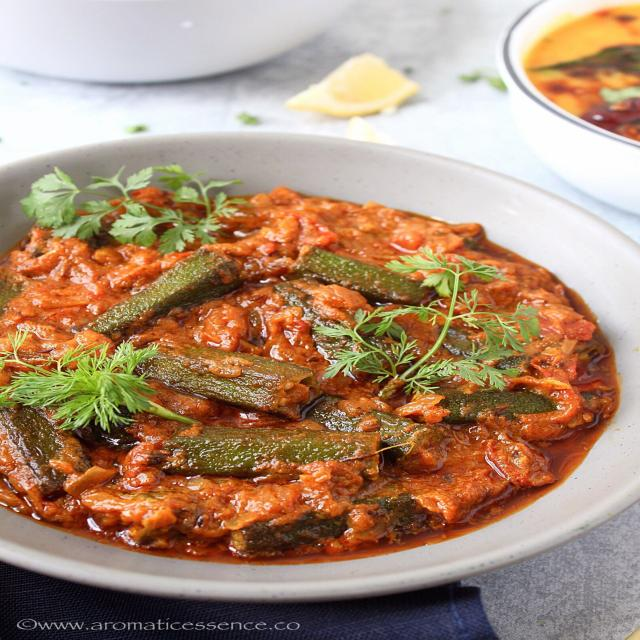Bhindi Masala: (2, 170, 640, 562)
